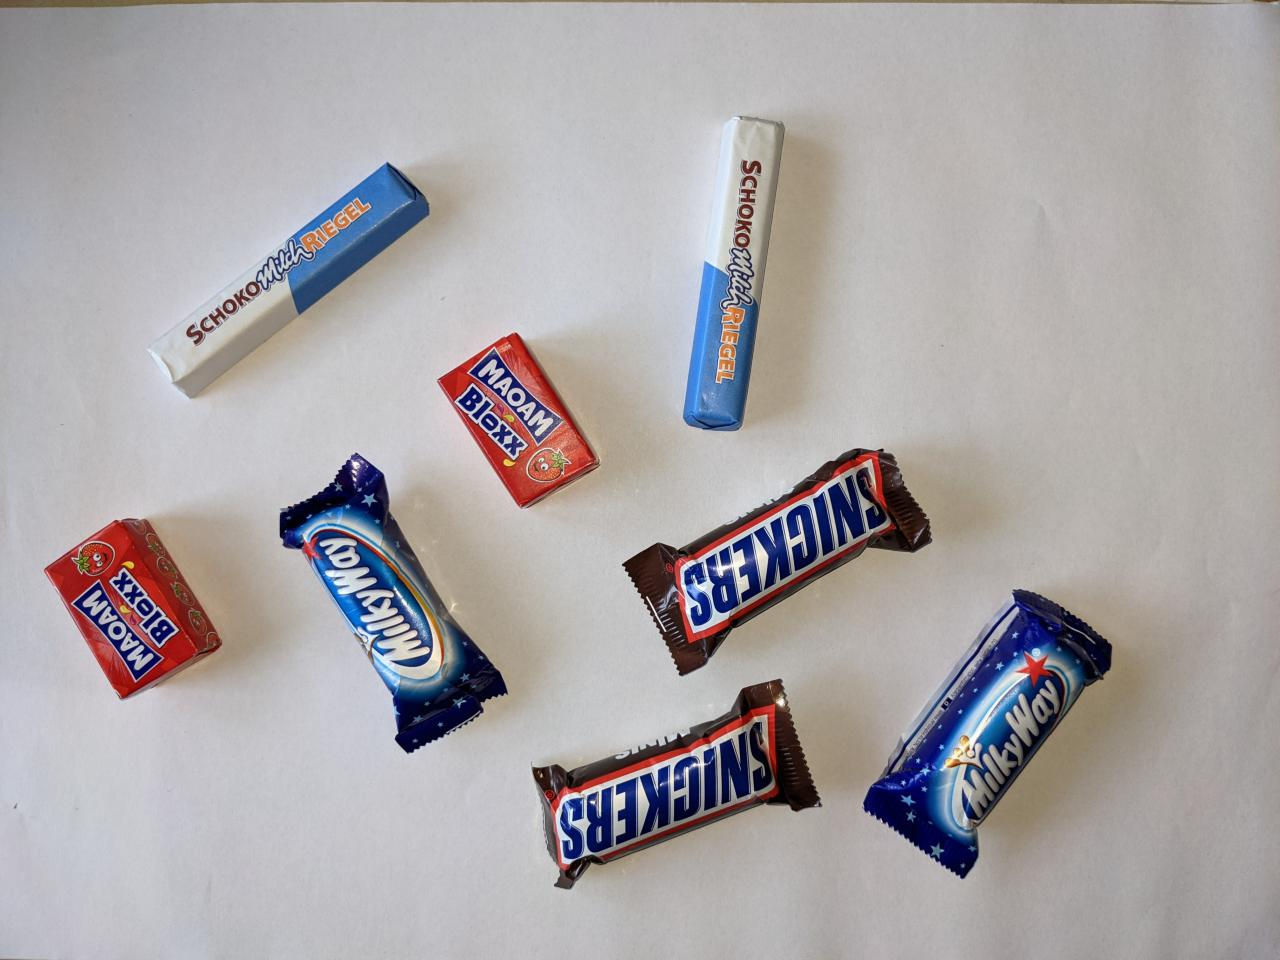MAOAM: (36, 510, 232, 708), (430, 326, 614, 518)
MilkyWay: (852, 581, 1123, 893), (270, 446, 519, 762)
Schokoriegel: (136, 152, 443, 404), (673, 108, 795, 440)
Snickers: (615, 442, 941, 681), (523, 672, 829, 898)
